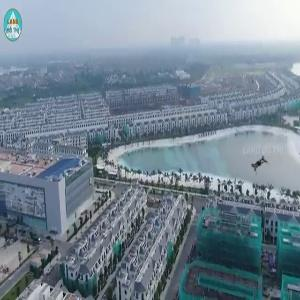drone: (230, 137, 287, 194)
